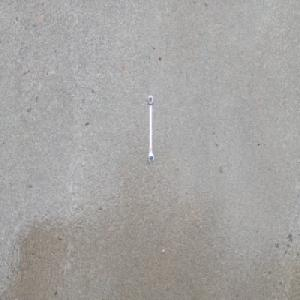Wrench: (147, 94, 154, 163)
